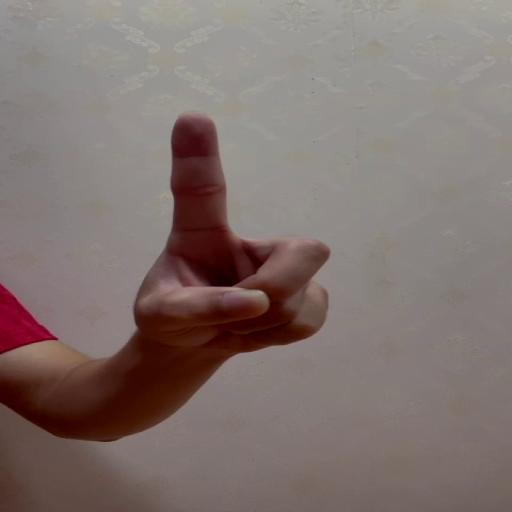point: (158, 111, 336, 354)
